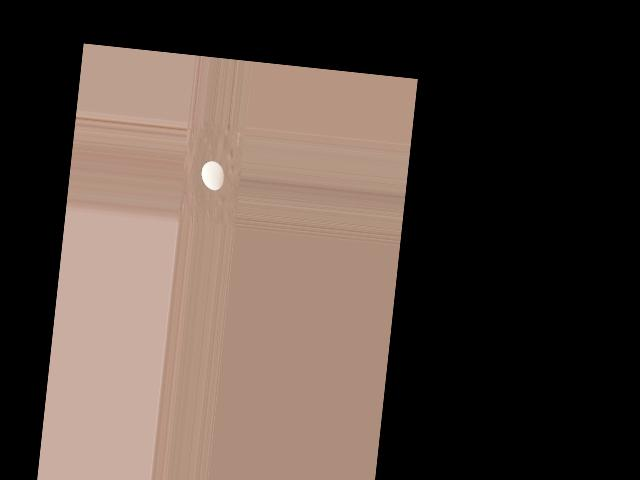egg: (200, 160, 225, 191)
